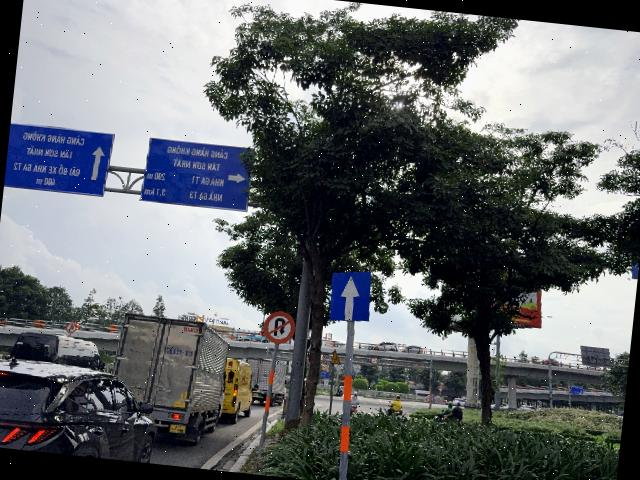cam-quay-dau-xe: (262, 310, 297, 346)
duong-mot-chieu: (328, 268, 374, 324)
